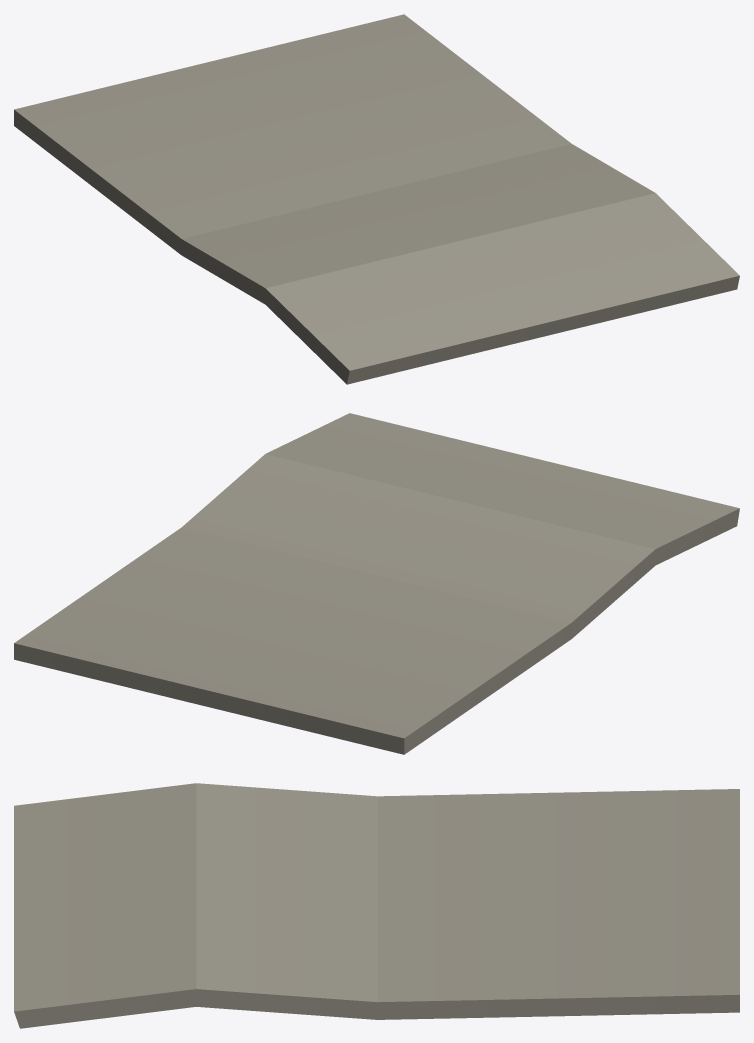
The model's file is Letter.fbx.
3 views of the same model, one above another, from view 1: azimuth 30°, elevation 25°; view 2: azimuth 150°, elevation 25°; view 3: azimuth 270°, elevation 25° (orthographic). The views are drawn at different scales.
Visible parts, largest first — view 1: Cube; view 2: Cube; view 3: Cube.
Boxes of the visible parts, bbox=[...] form: Cube: bbox=[14, 14, 739, 384]; Cube: bbox=[14, 413, 739, 754]; Cube: bbox=[14, 783, 739, 1028].
Size of the model in its own units: 63.95 by 5.76 by 95.29.
